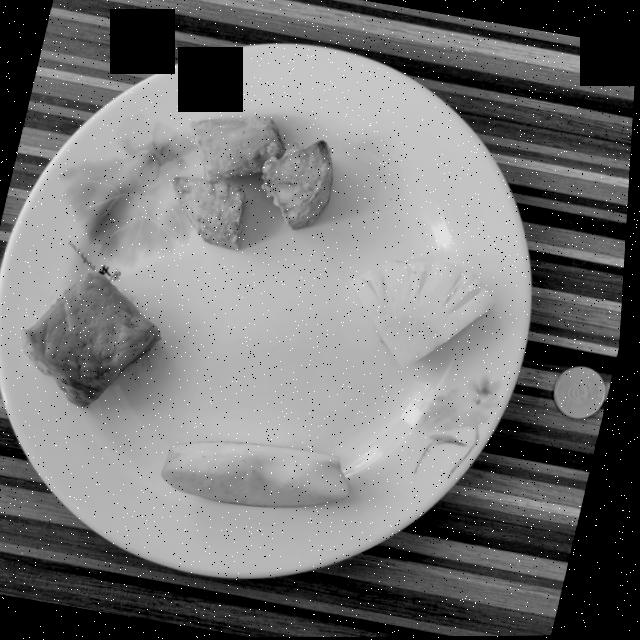apple -sliced-: (166, 441, 354, 508)
coin: (557, 367, 609, 419)
creamy tofu: (24, 272, 164, 407)
fried potato: (174, 116, 334, 250)
pineapple: (351, 260, 498, 368)
